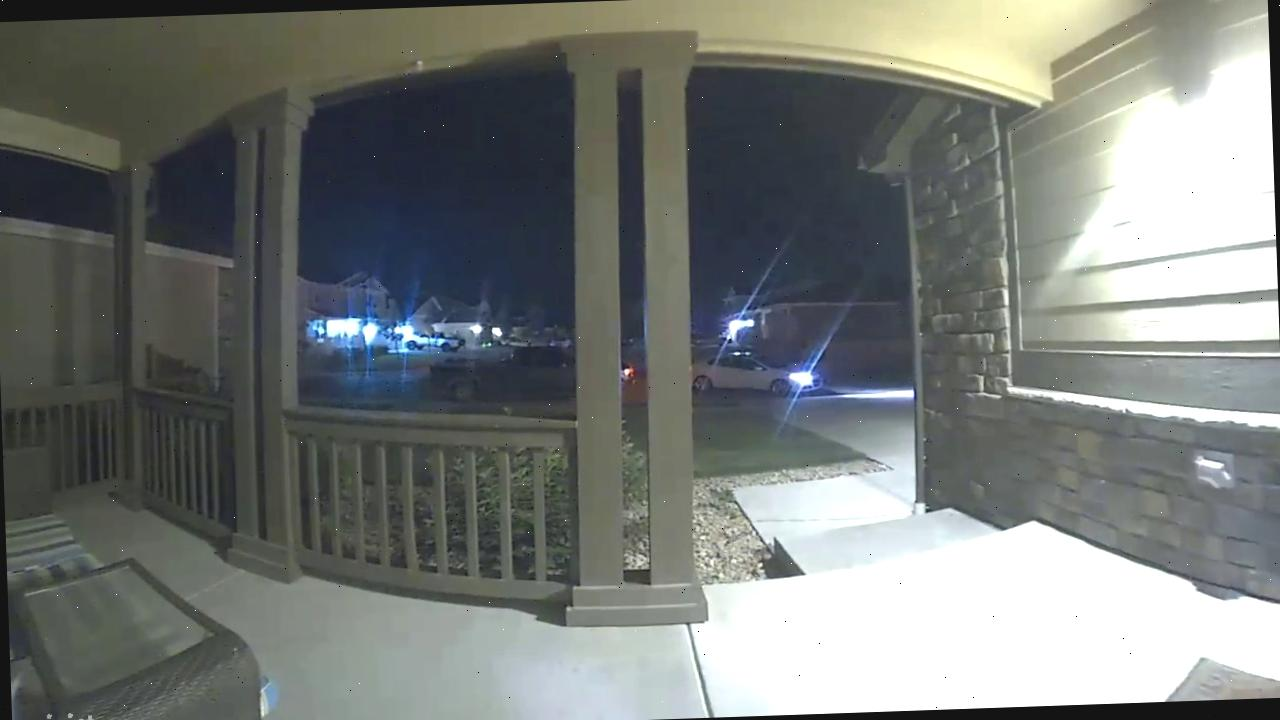suspicion: (418, 339, 578, 408), (694, 346, 830, 410), (395, 324, 470, 369)
